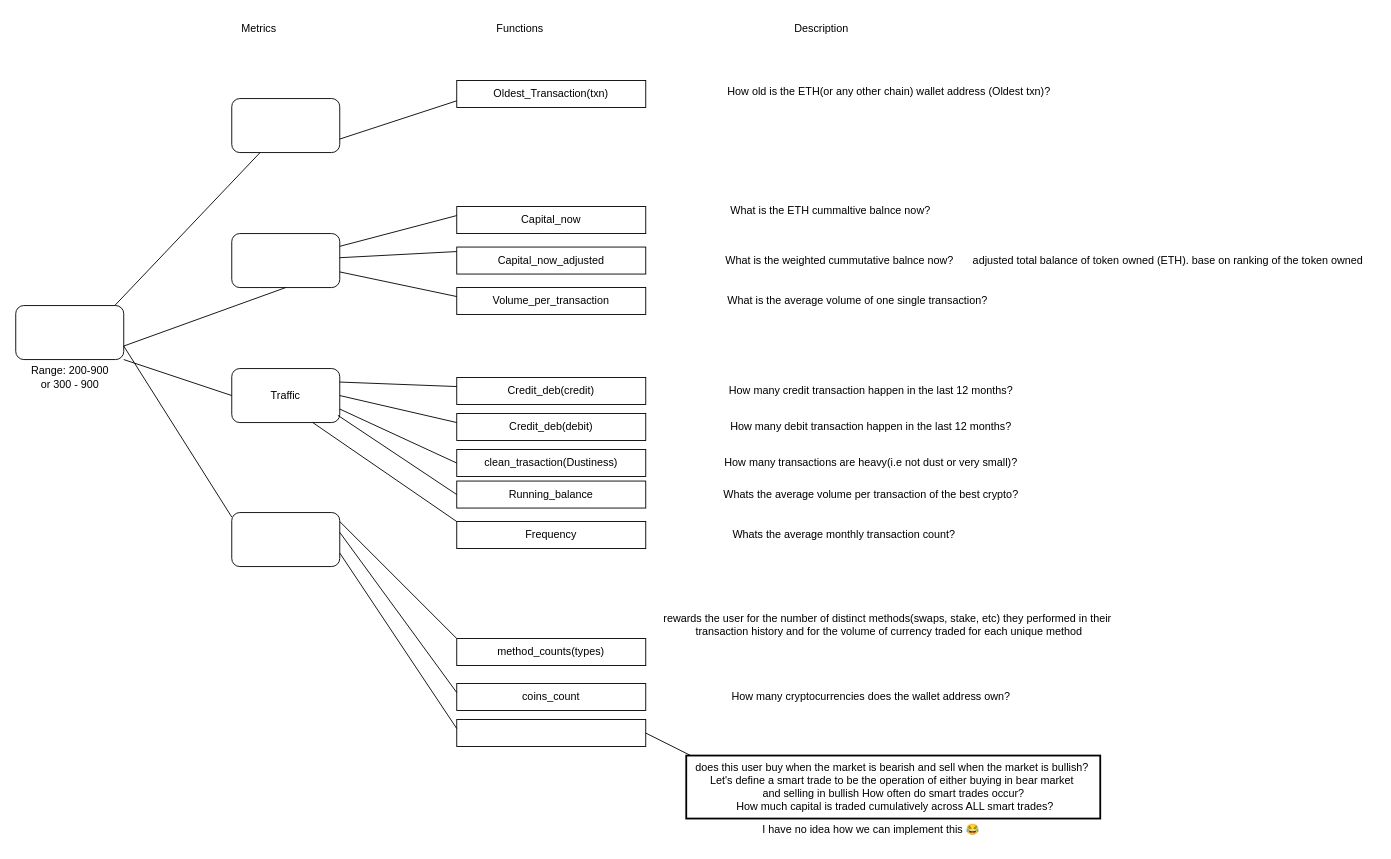
Image size: 1391x859. Some labels were removed from this diagram. Each missing label, with the centre of its shape:
Credibility: pixel 285 125
dexterity: pixel 551 733
Score: pixel 69 332
Stamina: pixel 285 539
Wealth: pixel 285 260
